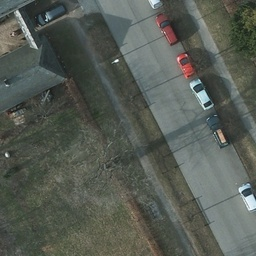car: (34, 1, 68, 30), (151, 13, 175, 44), (190, 79, 214, 110), (203, 117, 227, 147), (231, 182, 255, 212), (175, 52, 197, 80)
